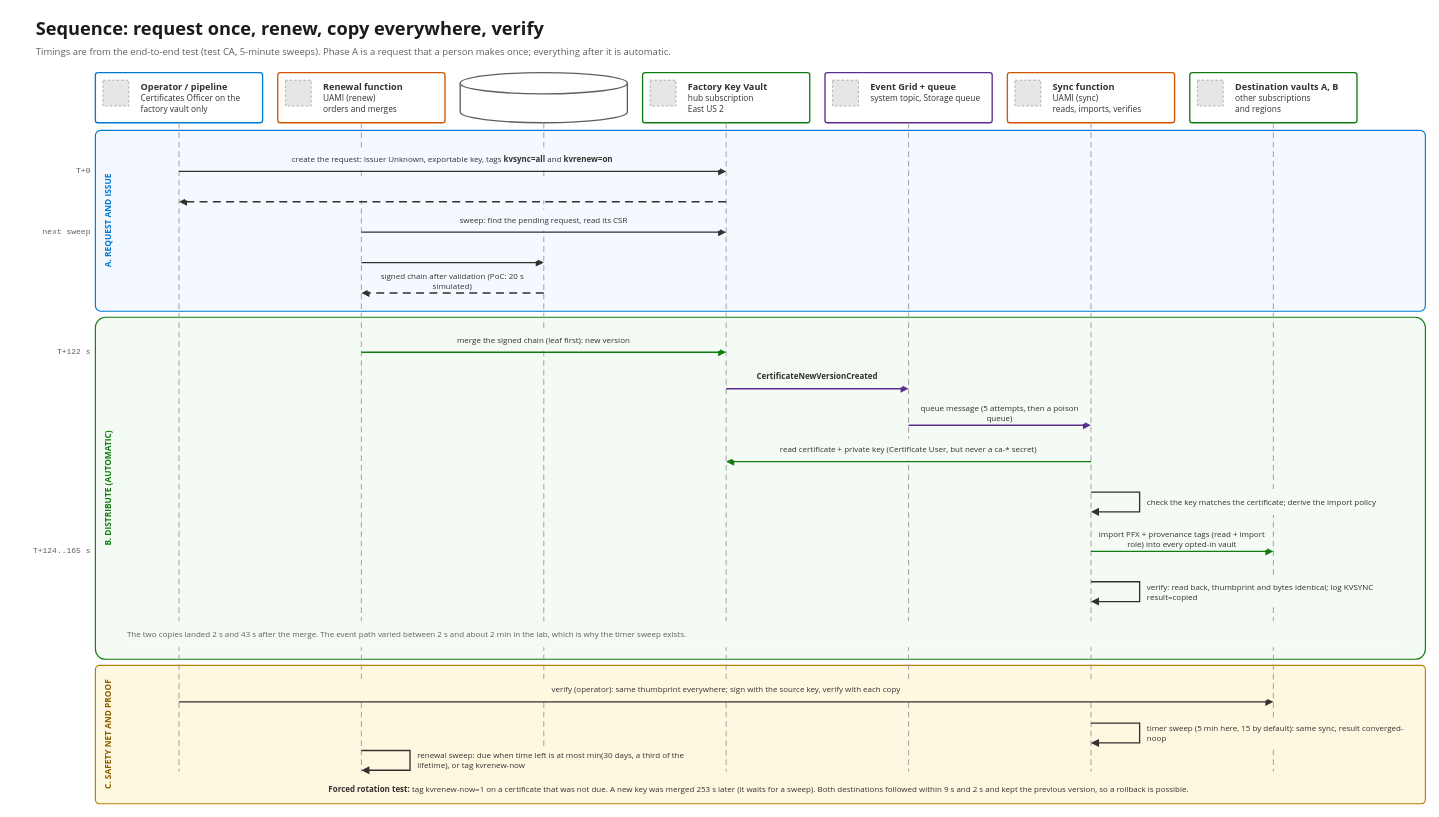
The diagram is 1439 pixels wide and 817 high, and some of its shapes have lost their labels. Grey dashed boxes stand in for pictures. The centre of each missing label's shape, as x and y in pixels:
Certificate Authority DigiCert (prod) / test CA (PoC): (x=543, y=97)
order with the CSR (DigiCert API; PoC: private test CA): (x=452, y=250)
pending request + CSR (no event is published): (x=452, y=189)
